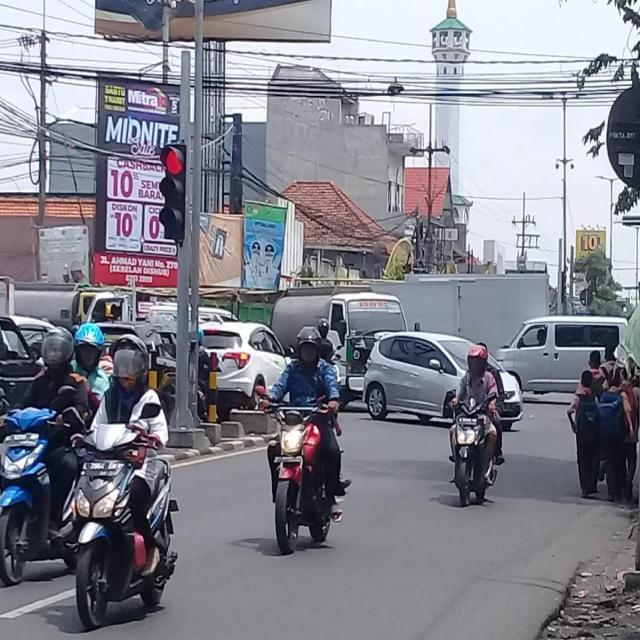red_light: (158, 143, 189, 244)
